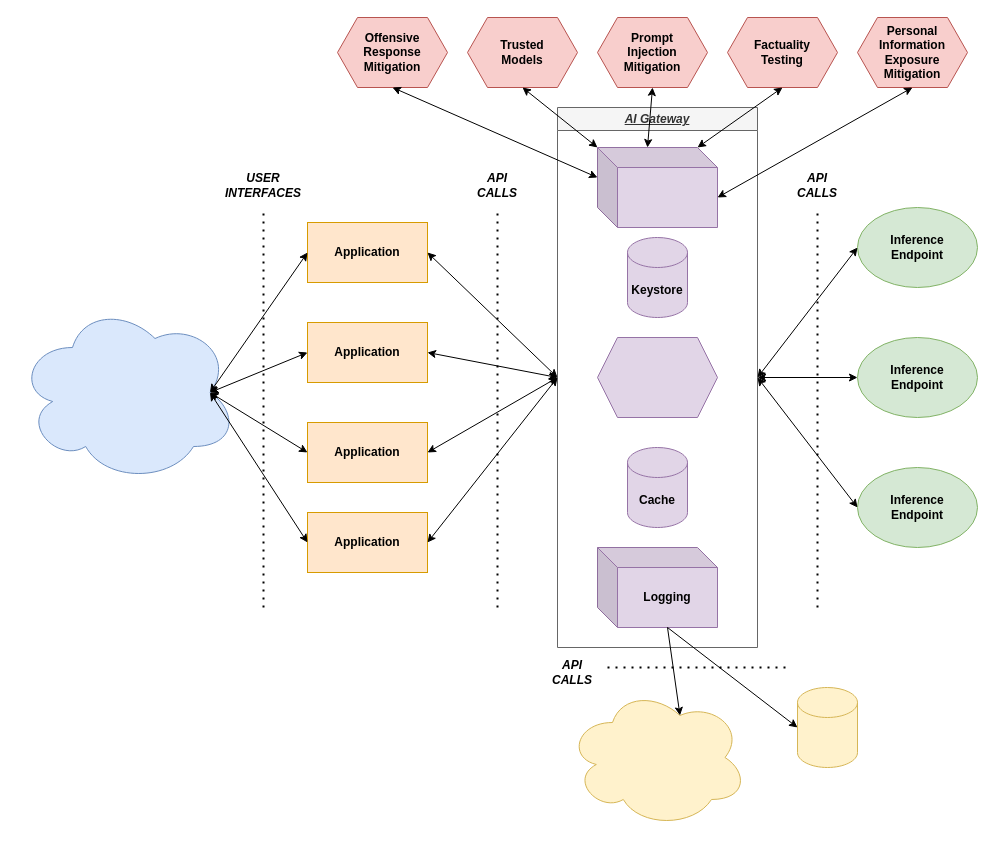
This 995x845 diagram has some shape labels left out. The shapes that lost their labels are listed below. From the top down, each one's centre as x and y in pixels, then its label:
At (x=657, y=187): "Guardrails".
At (x=127, y=392): "Users".
At (x=657, y=377): "Inference Proxy".
At (x=827, y=727): "Log Storage".
At (x=657, y=757): "Observability".
